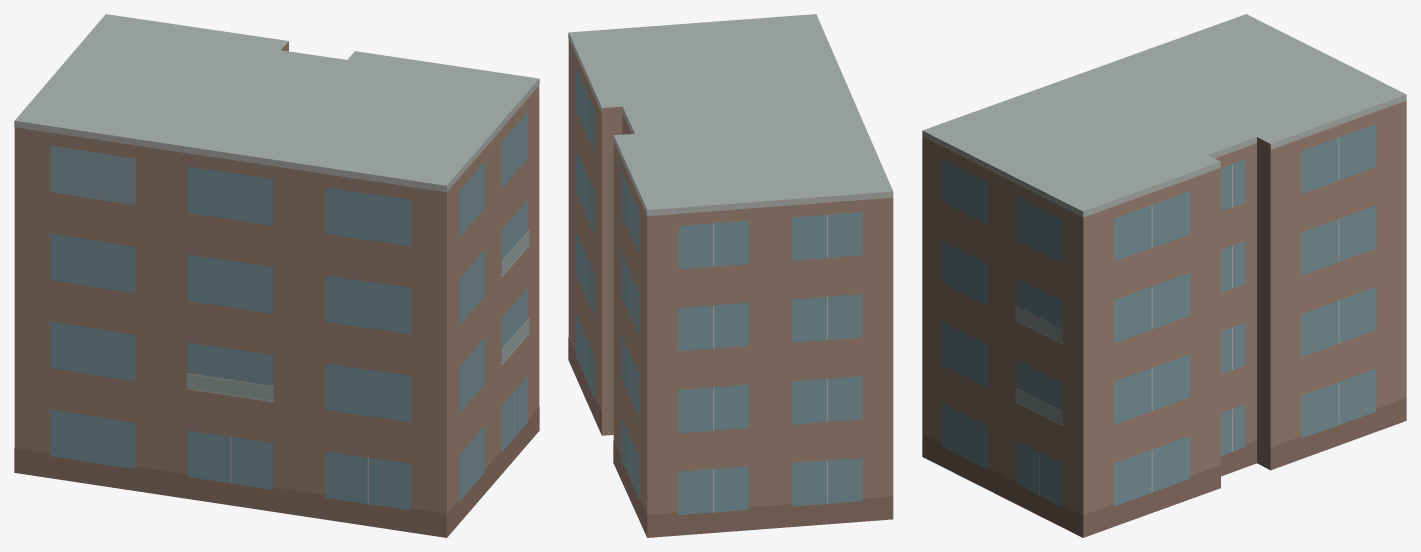
Rendered from survey-upis-32681252.glb.
3 views of the same model, side by side, from view 1: azimuth 30°, elevation 25°; view 2: azimuth 150°, elevation 25°; view 3: azimuth 270°, elevation 25° (orthographic). The views are drawn at different scales.
Parts seen in each view (by area): view 1: survey-upis-32681252.tmp; view 2: survey-upis-32681252.tmp; view 3: survey-upis-32681252.tmp.
Boxes of the visible parts, x1,y1,x2,y2 form: survey-upis-32681252.tmp: (14, 14, 539, 537); survey-upis-32681252.tmp: (568, 14, 893, 537); survey-upis-32681252.tmp: (922, 14, 1406, 537).
Bounding box in the file's own units: 17.15 × 13.2 × 17.77.
